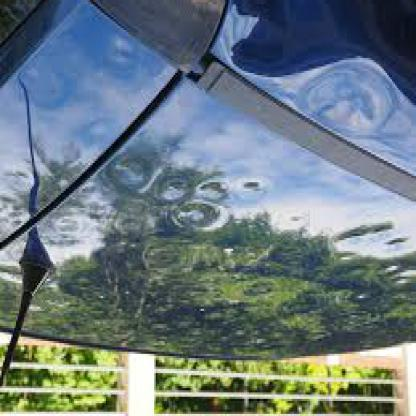dent: (94, 150, 252, 251), (290, 39, 414, 152)
